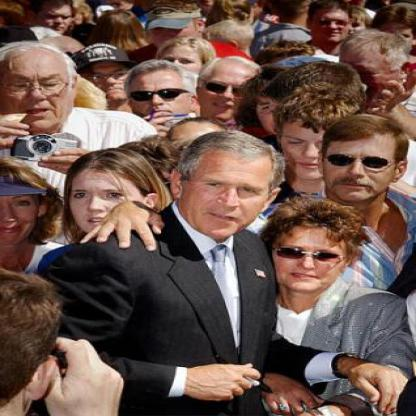face: (184, 139, 276, 240), (67, 152, 150, 240), (1, 46, 76, 134), (324, 119, 400, 203), (281, 99, 354, 182), (275, 215, 351, 294), (131, 63, 193, 129), (201, 58, 263, 123), (78, 48, 137, 107), (1, 164, 40, 248), (159, 39, 208, 88), (315, 4, 354, 43), (39, 1, 76, 37)
